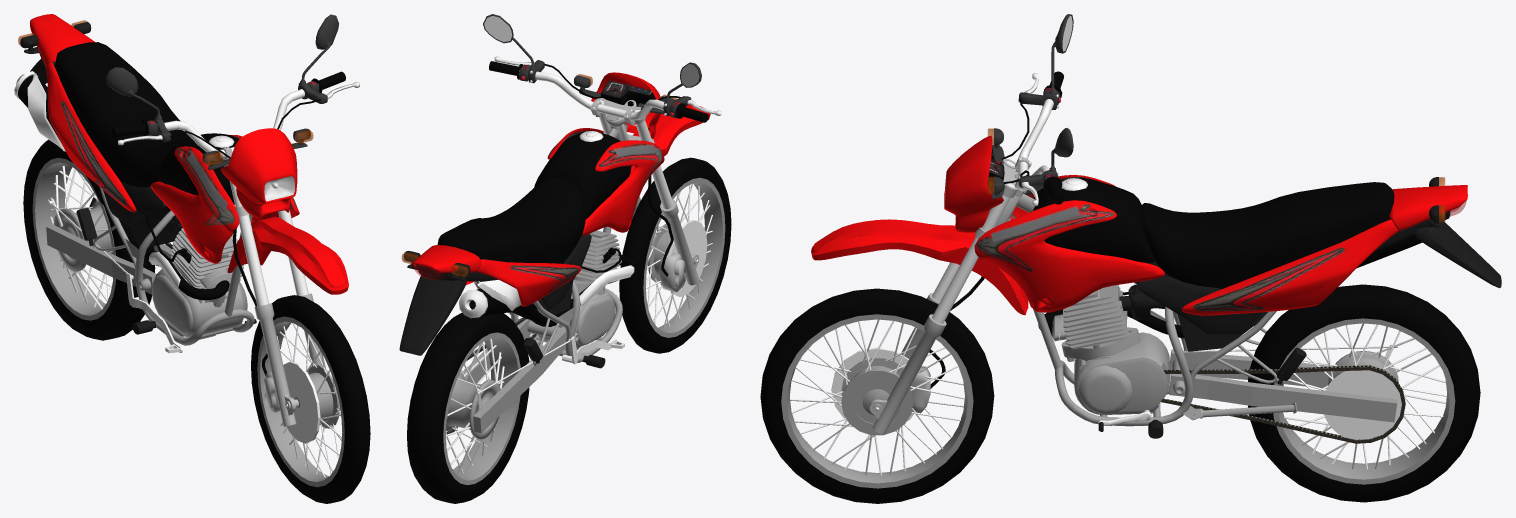
3 views of the same model, side by side, from view 1: azimuth 30°, elevation 25°; view 2: azimuth 150°, elevation 25°; view 3: azimuth 270°, elevation 25° (orthographic). The views are drawn at different scales.
Visible parts, largest first — view 1: body, wheel_f, wheel_r; view 2: body, wheel_r, wheel_f; view 3: body, wheel_r, wheel_f.
Part boxes in pixels (box(x1,y1,x2,y2)): body: box(14, 14, 359, 375); wheel_f: box(251, 293, 370, 503); wheel_r: box(23, 139, 166, 340); body: box(399, 14, 721, 417); wheel_r: box(407, 313, 542, 503); wheel_f: box(619, 157, 731, 353); body: box(811, 14, 1501, 438); wheel_r: box(1248, 284, 1480, 502); wheel_f: box(760, 288, 994, 503).
Bounding box in the file's own units: 0.8433 × 1.31 × 2.04.
Materials: 16 (6 with a texture image).
